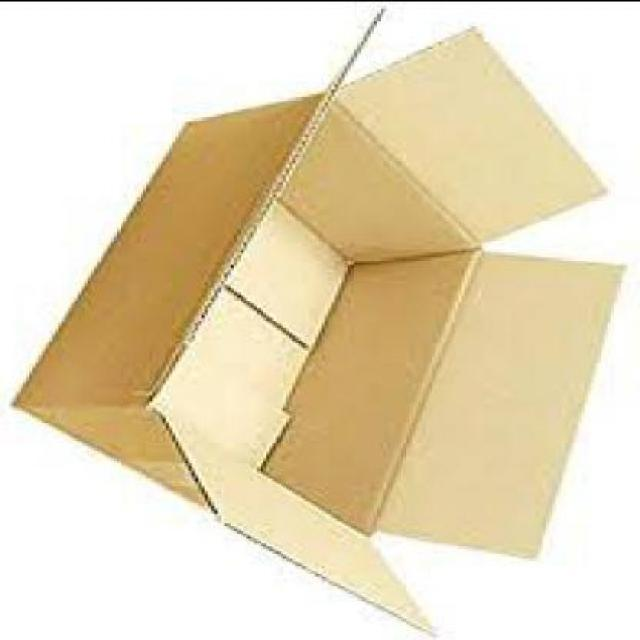box: (6, 3, 631, 639)
